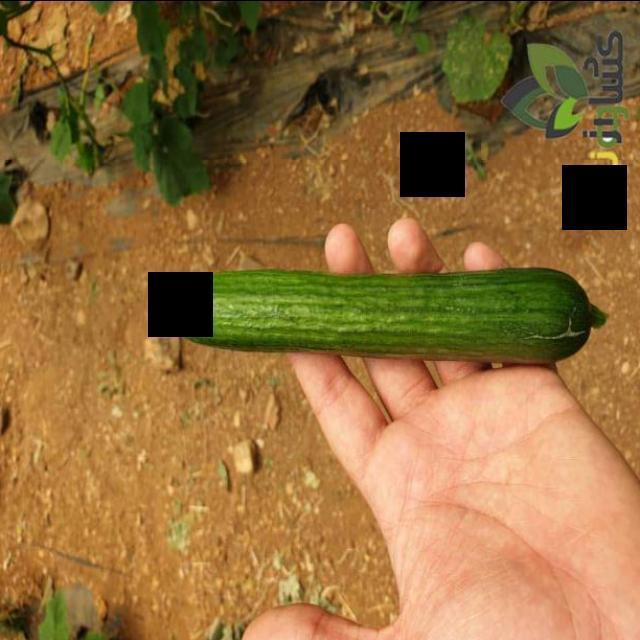cucumber: (162, 266, 610, 368)
